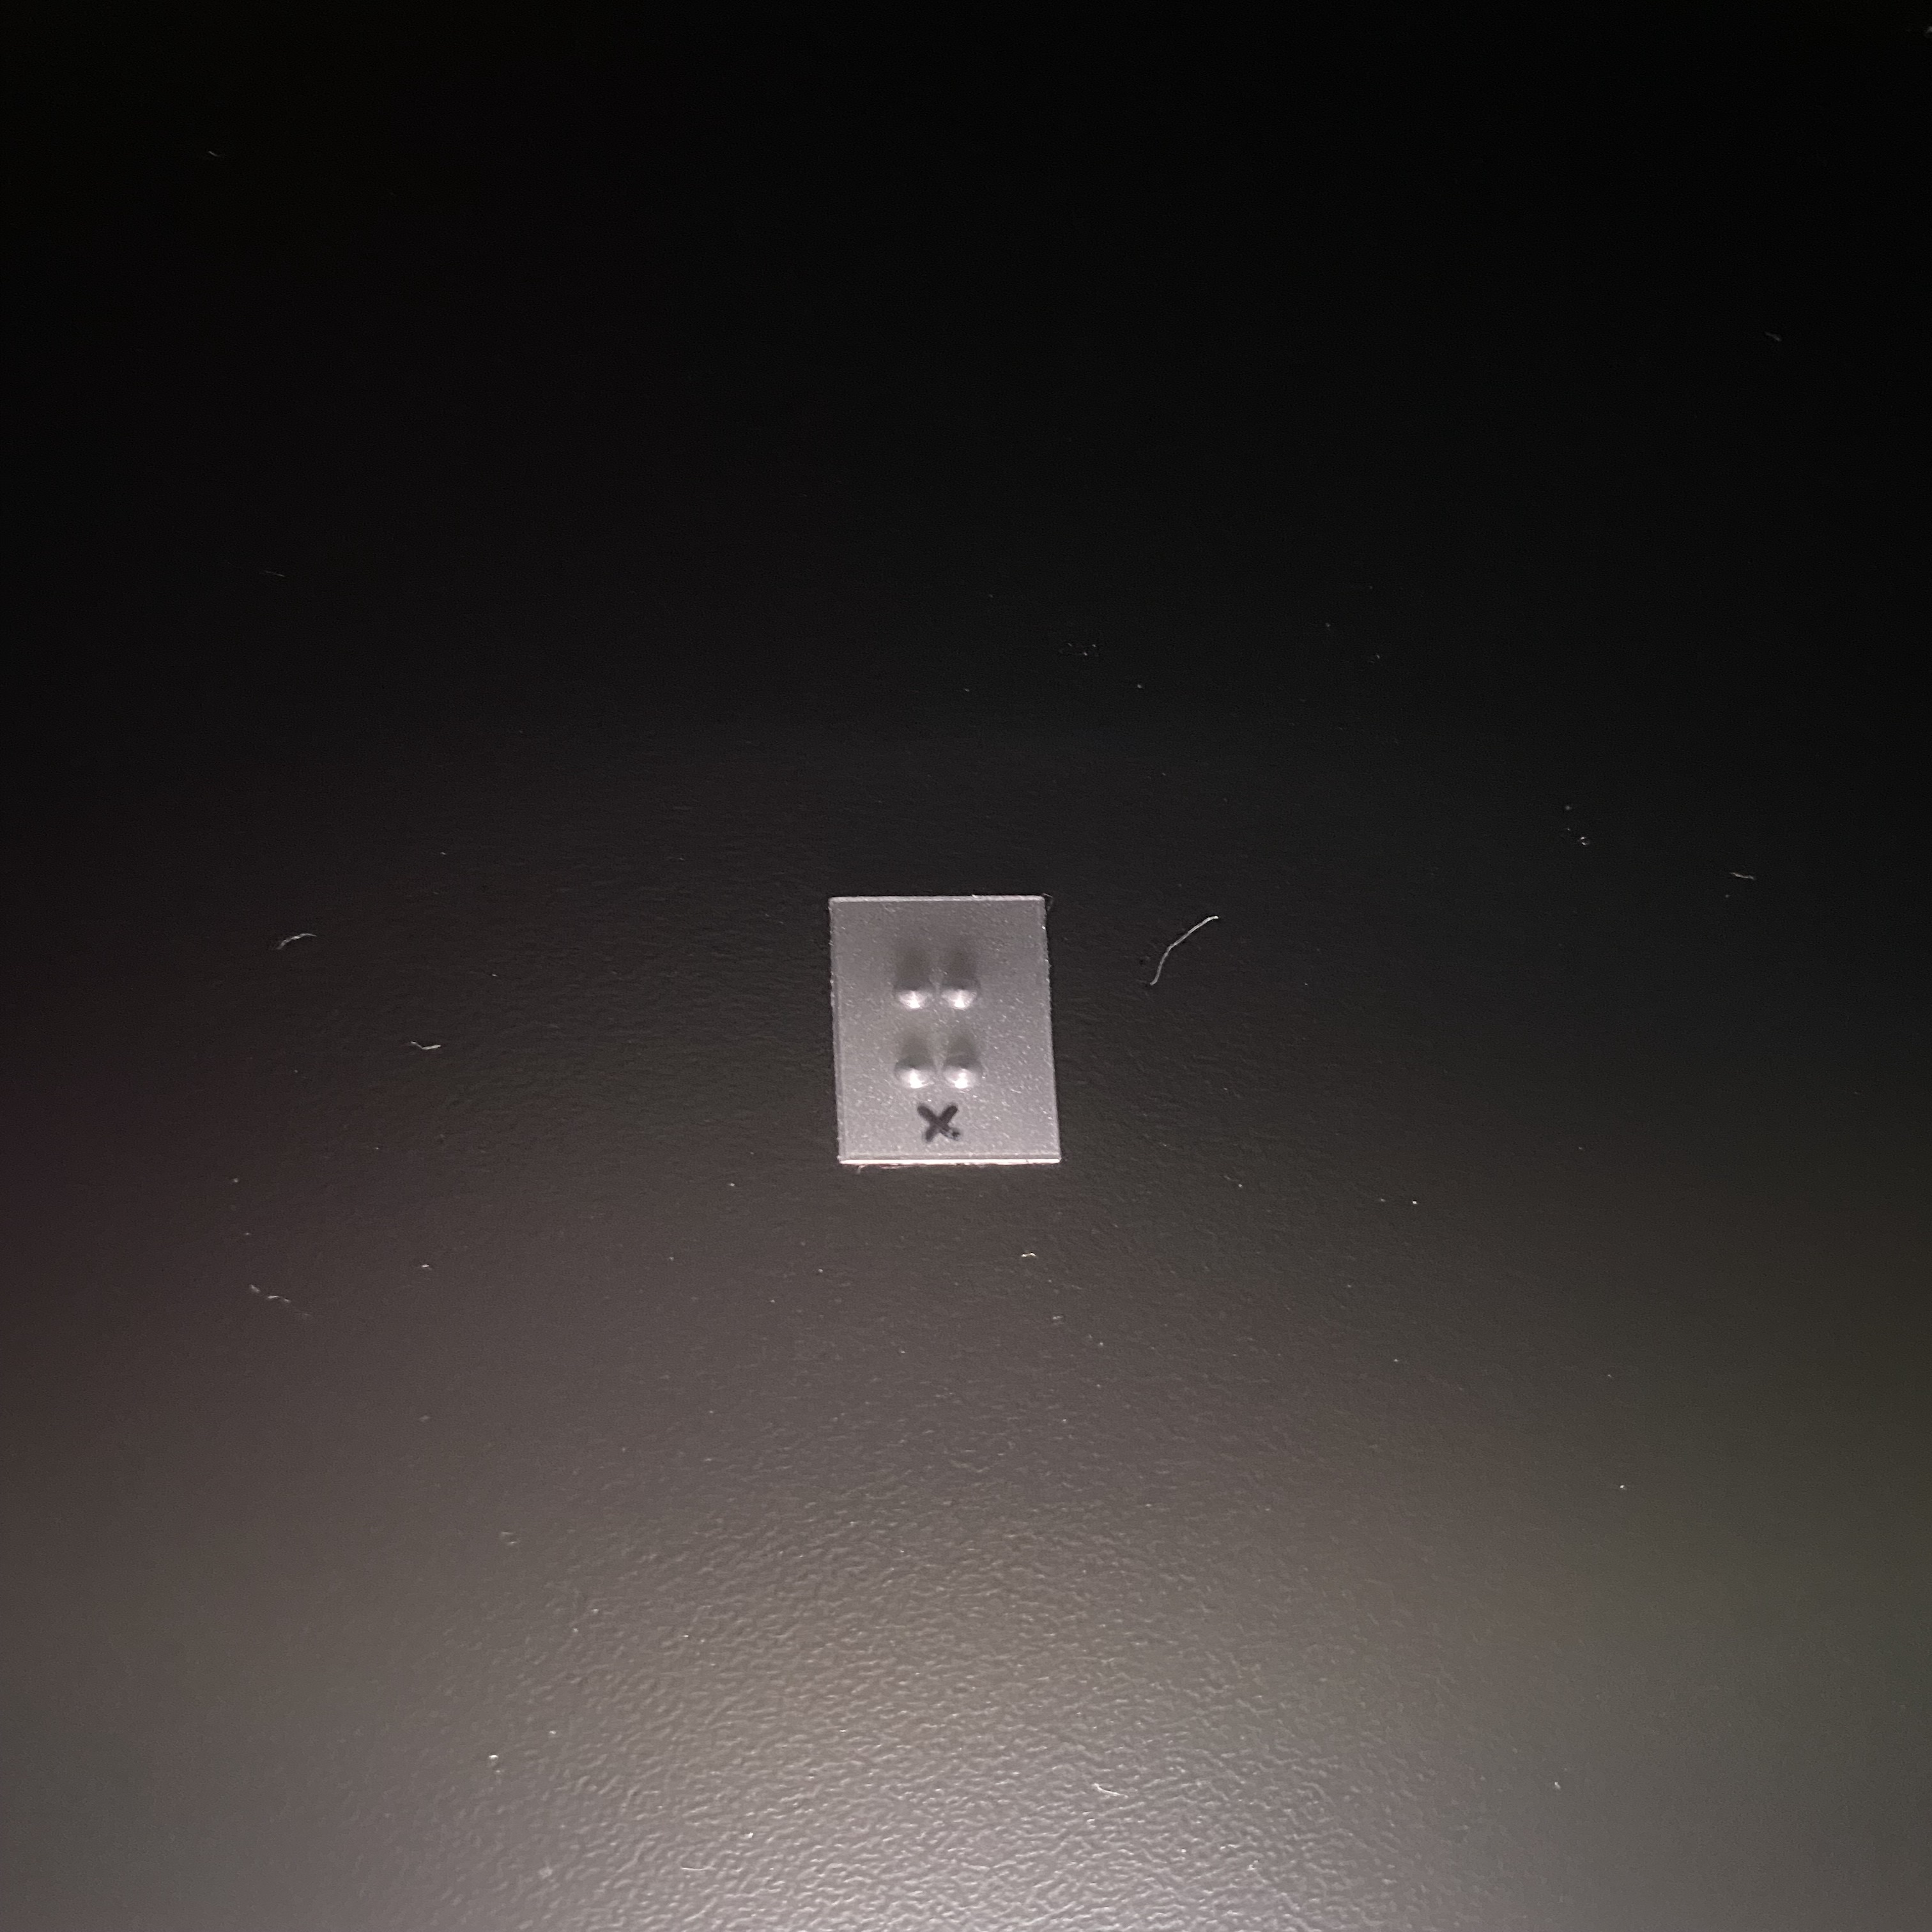x: (891, 943, 1005, 1091)
